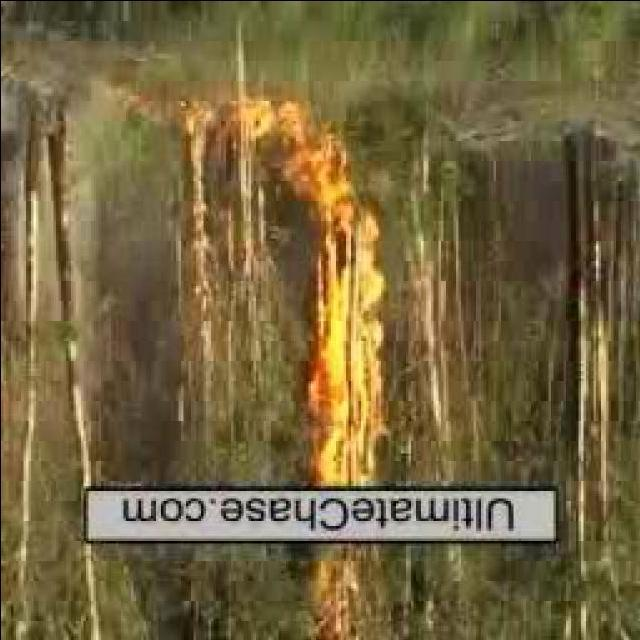Fire: (302, 259, 382, 479), (282, 130, 372, 238)
